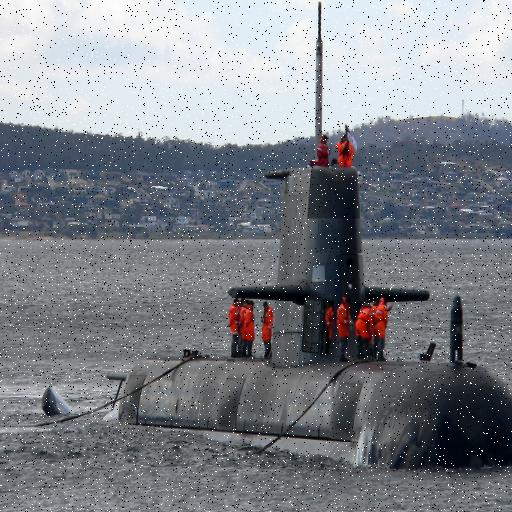submarine: (30, 1, 512, 466)
